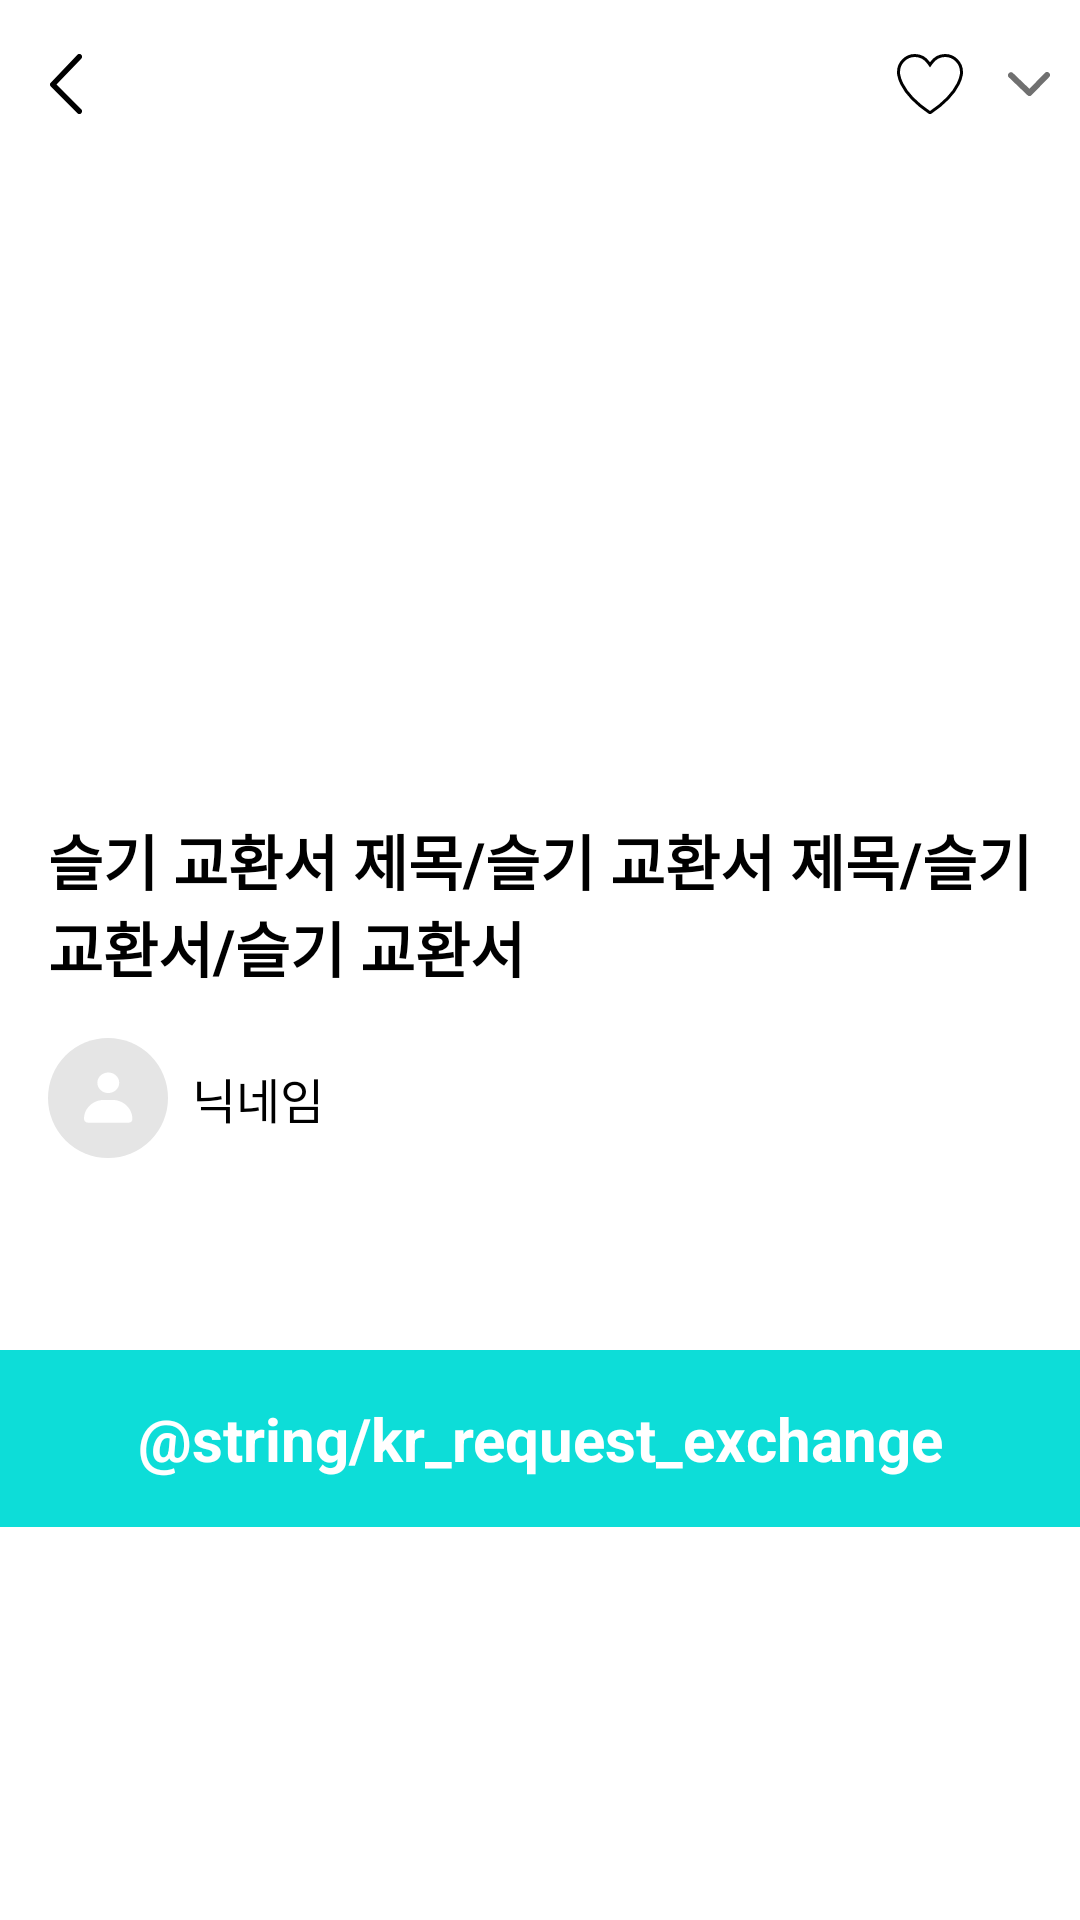

Icons on this 1080×1920 Android screen, each with its box as Rect(x1, y1, x2, y2):
chevron downward: Rect(1008, 72, 1050, 96)
chevron left: Rect(50, 54, 82, 114)
heart off: Rect(897, 54, 963, 114)
profile: Rect(48, 1038, 168, 1158)
